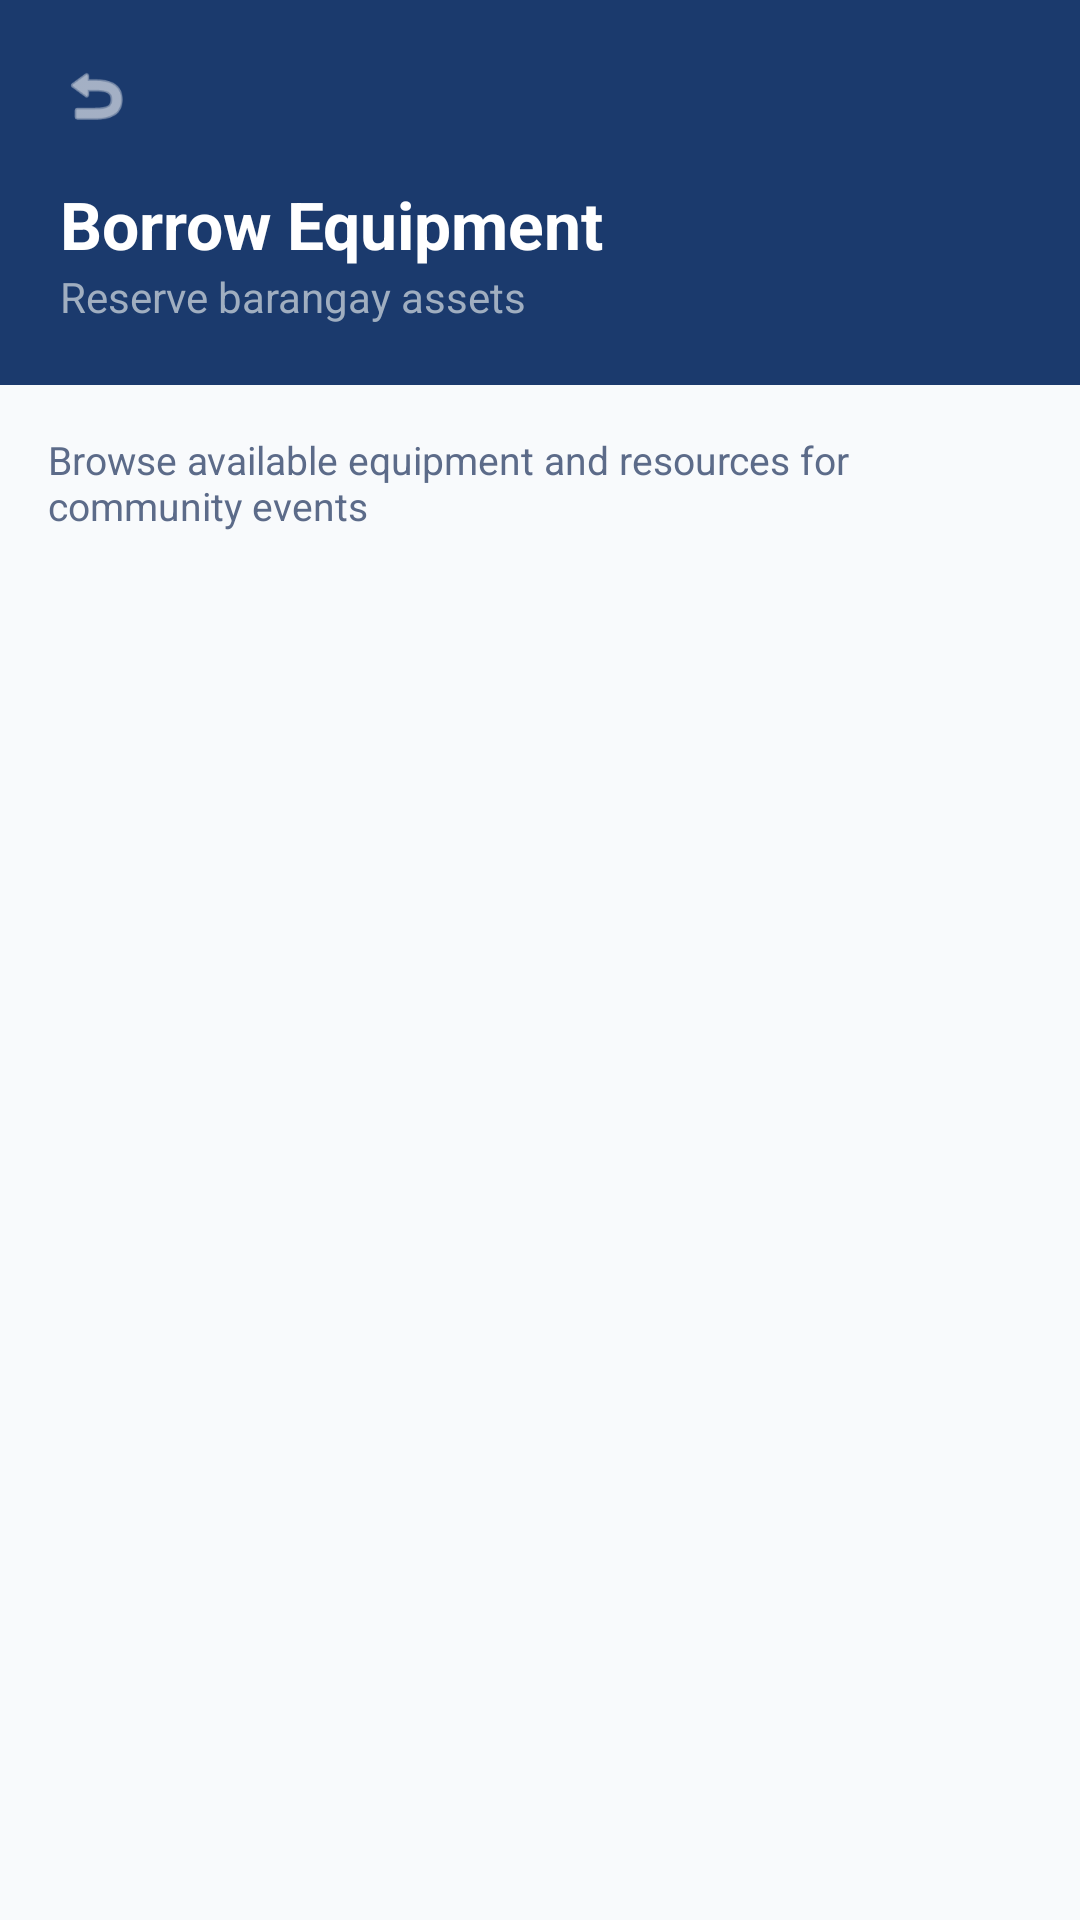

Icon click points for this 1080x1920 phone screenshot, format [x,y]:
revert: [97,96]
